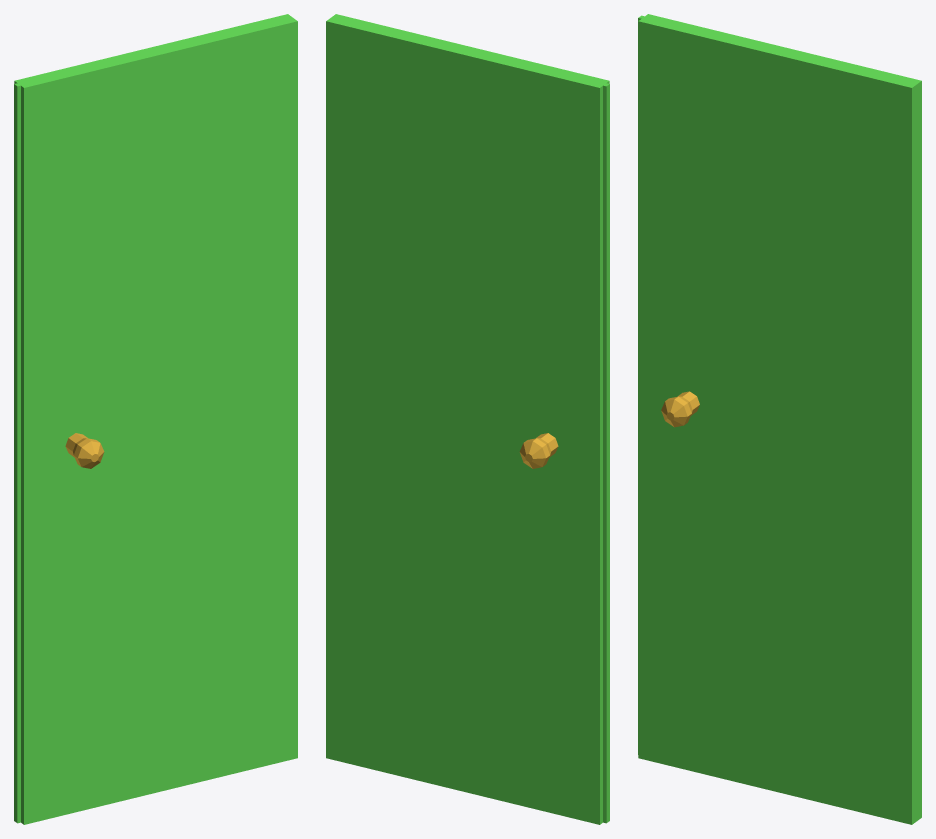
The model's file is DoubleDoorRight.fbx.
3 renders of one model, left to right at view 1: azimuth 30°, elevation 25°; view 2: azimuth 150°, elevation 25°; view 3: azimuth 330°, elevation 25°, orthographic.
Parts seen in each view (by area): view 1: BP10_DubbledoorRigt; view 2: BP10_DubbledoorRigt; view 3: BP10_DubbledoorRigt.
Boxes of the visible parts, x1,y1,x2,y2 form: BP10_DubbledoorRigt: (14, 14, 297, 824); BP10_DubbledoorRigt: (326, 14, 609, 824); BP10_DubbledoorRigt: (638, 14, 921, 824).
Size of the model in its own units: 81 by 206 by 24.62.
